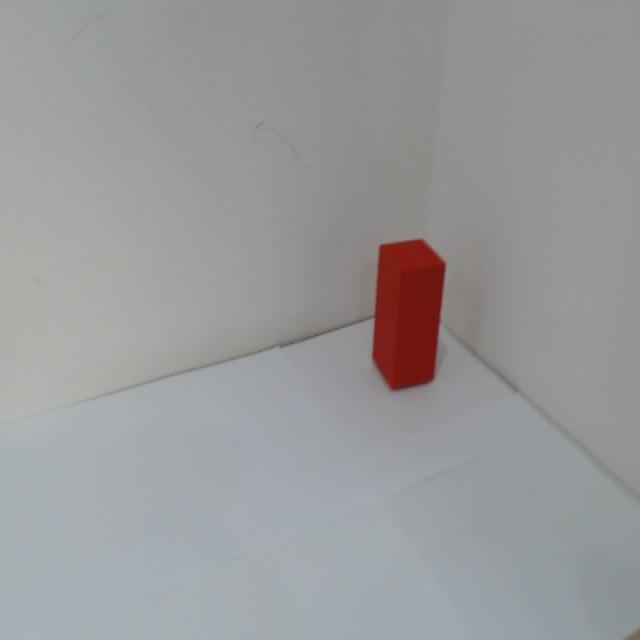cube: (378, 225, 446, 403)
